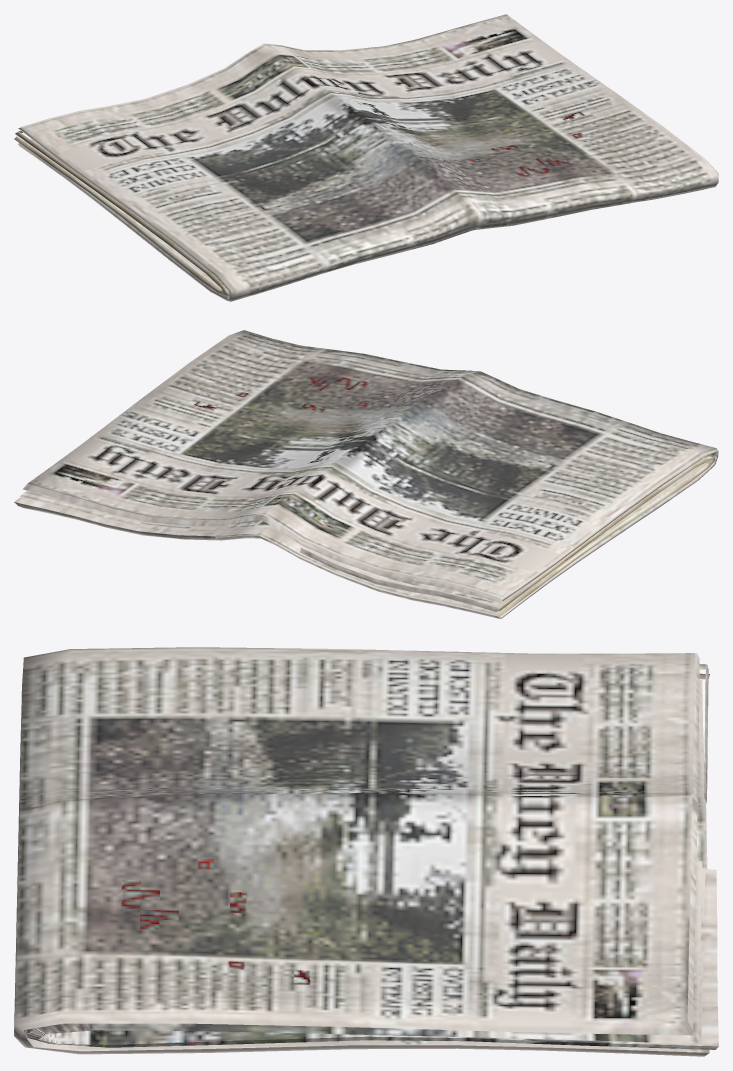
File: Newspapwe03a.obj
3 renders of one model, top to bottom at view 1: azimuth 30°, elevation 25°; view 2: azimuth 150°, elevation 25°; view 3: azimuth 270°, elevation 25°, orthographic. The views are drawn at different scales.
Visible parts, largest first — view 1: LODGroup_1_MainMesh_1_Submesh_2, LODGroup_1_MainMesh_2_Submesh_2; view 2: LODGroup_1_MainMesh_1_Submesh_2, LODGroup_1_MainMesh_2_Submesh_2; view 3: LODGroup_1_MainMesh_1_Submesh_2, LODGroup_1_MainMesh_2_Submesh_2.
Part boxes in pixels (x1,y1,x2,y2): LODGroup_1_MainMesh_1_Submesh_2: [14, 14, 718, 301]; LODGroup_1_MainMesh_2_Submesh_2: [466, 111, 585, 177]; LODGroup_1_MainMesh_1_Submesh_2: [14, 330, 718, 618]; LODGroup_1_MainMesh_2_Submesh_2: [194, 376, 373, 411]; LODGroup_1_MainMesh_1_Submesh_2: [14, 647, 718, 1056]; LODGroup_1_MainMesh_2_Submesh_2: [121, 858, 310, 984].
Bounding box in the file's own units: 37.16 × 3.78 × 29.55.
1 material, 1 textured.
